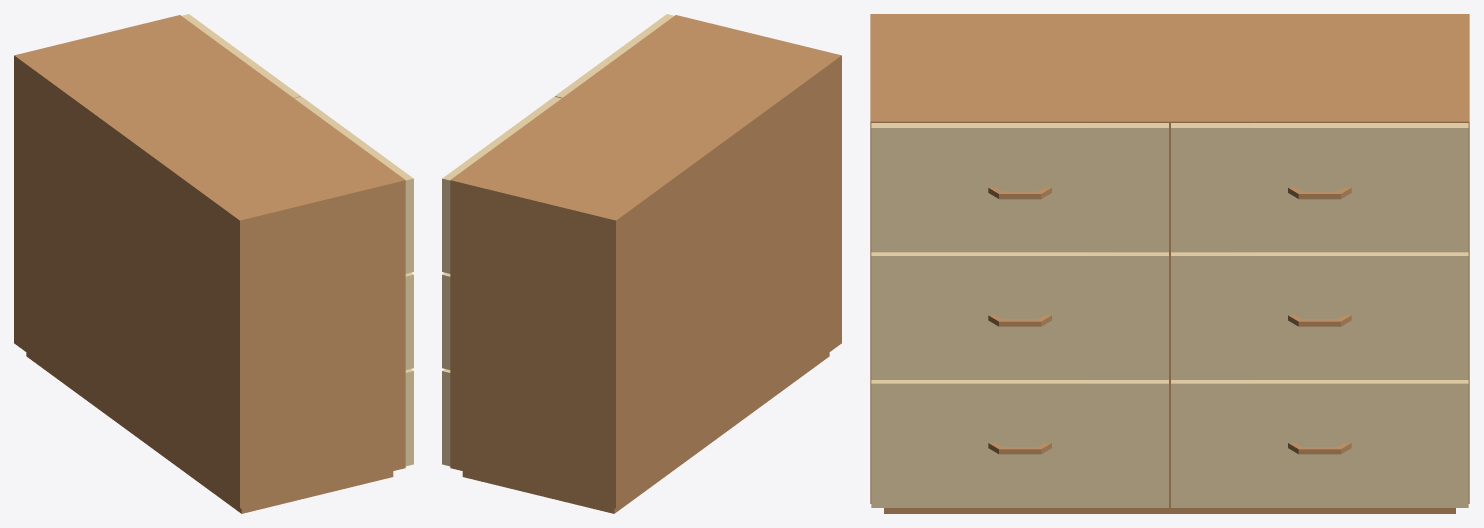
Rendered from nightstand_2.fbx.
The picture shows the model from 3 angles, left to right: view 1: azimuth 30°, elevation 25°; view 2: azimuth 150°, elevation 25°; view 3: azimuth 270°, elevation 25°; orthographic projection. The views are drawn at different scales.
Parts seen in each view (by area): view 1: Cube, Cube.001; view 2: Cube, Cube.001; view 3: Cube.001, Cube, Cube.002.
Boxes of the visible parts, <box> form: Cube: <box>14,15,405,513</box>; Cube.001: <box>181,14,413,466</box>; Cube: <box>450,15,841,513</box>; Cube.001: <box>442,14,674,466</box>; Cube.001: <box>871,123,1468,507</box>; Cube: <box>870,14,1469,513</box>; Cube.002: <box>988,187,1351,454</box>.
Bounding box in the file's own units: 175 × 272 × 372.
